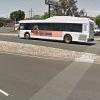Bus: (13, 15, 97, 44)
